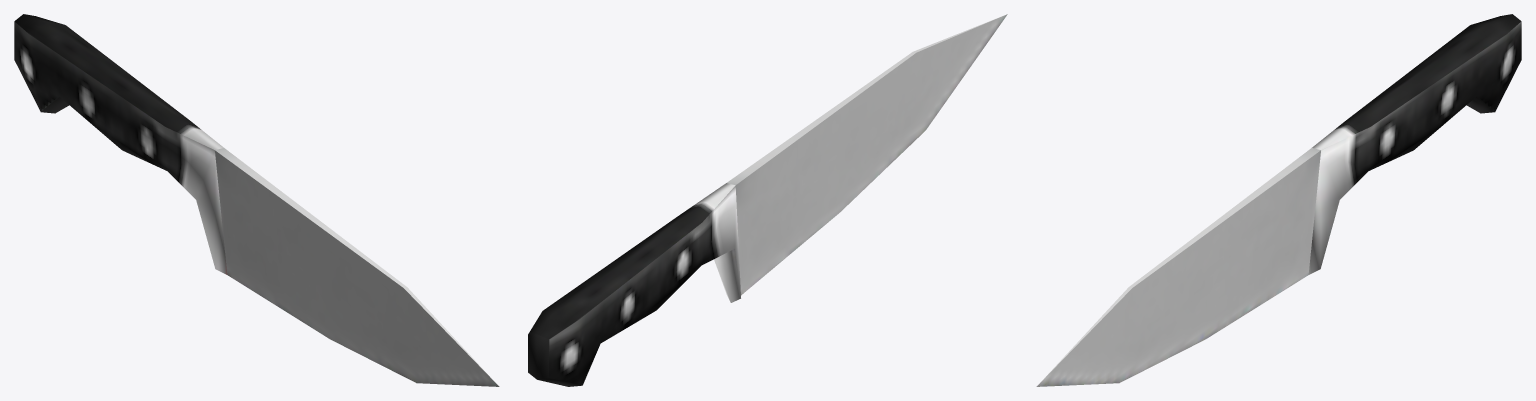
Rendered from Knife.fbx.
The picture shows the model from 3 angles, left to right: view 1: azimuth 30°, elevation 25°; view 2: azimuth 150°, elevation 25°; view 3: azimuth 330°, elevation 25°; orthographic projection.
Visible parts, largest first — view 1: Plane; view 2: Plane; view 3: Plane.
Part boxes in pixels (<box>): Plane: <box>14,14,499,386</box>; Plane: <box>528,14,1007,386</box>; Plane: <box>1036,14,1521,386</box>.
Bounding box in the file's own units: 4.28 × 13.5 × 96.16.
